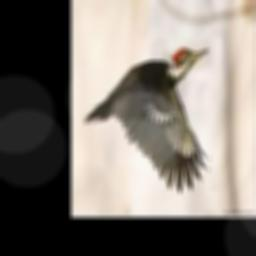Woodpecker: (84, 48, 211, 193)
